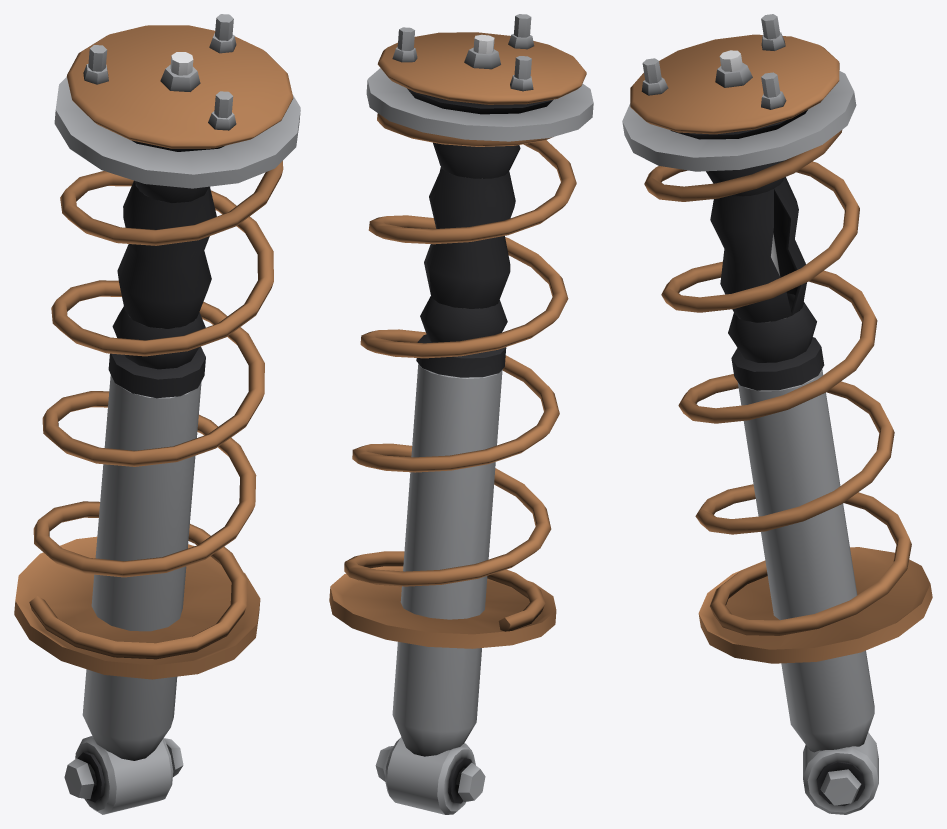
Rendered from susp_soft.glb.
3 views of the same model, side by side, from view 1: azimuth 30°, elevation 25°; view 2: azimuth 150°, elevation 25°; view 3: azimuth 270°, elevation 25° (orthographic). The views are drawn at different scales.
Visible parts, largest first — view 1: PART; view 2: PART; view 3: PART.
Boxes of the visible parts, x1,y1,x2,y2 form: PART: (14,14,300,814); PART: (329,14,593,814); PART: (622,14,932,814).
Size of the model in its own units: 0.135 by 0.4812 by 0.1789.
